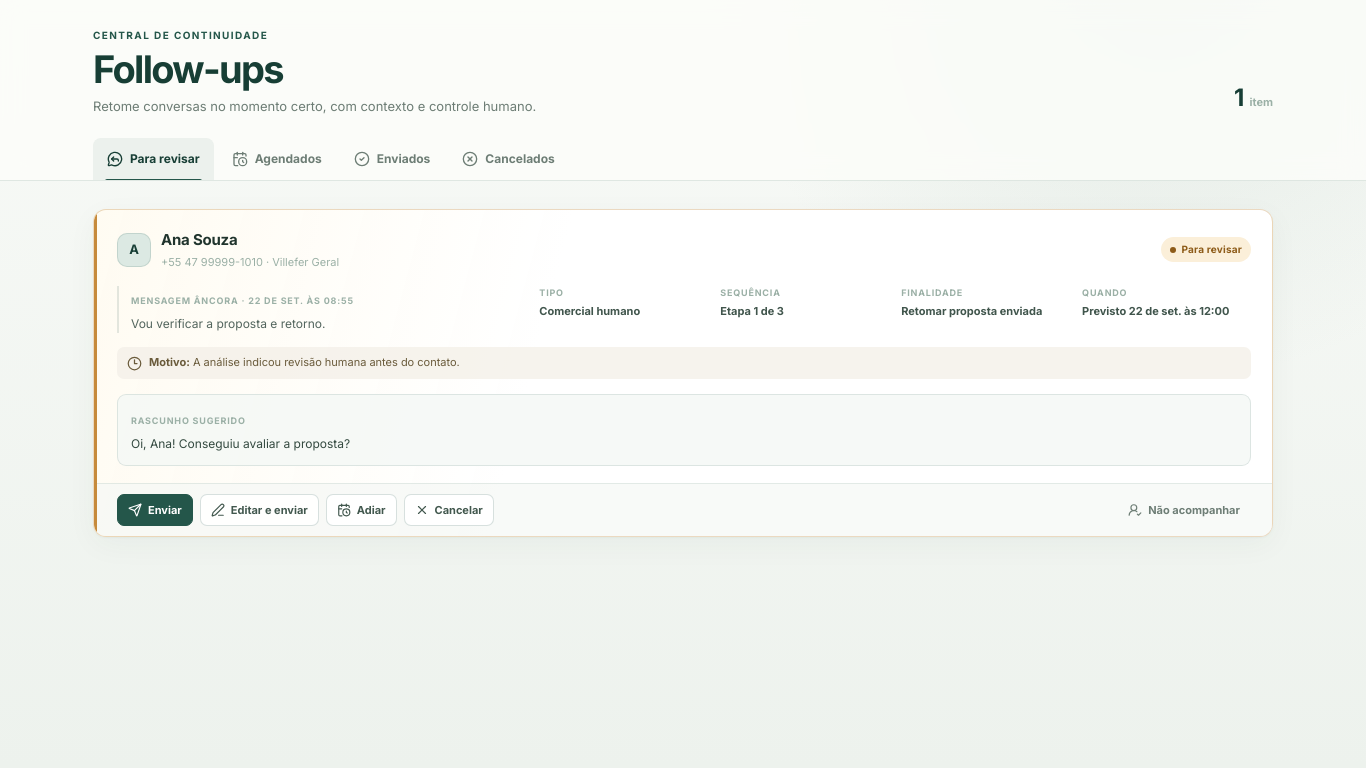
it: FollowupsPage › starts on review and switches between queue filters
Click the button "Agendados". click: (277, 159)
box: x1=218 y1=138 x2=336 y2=180
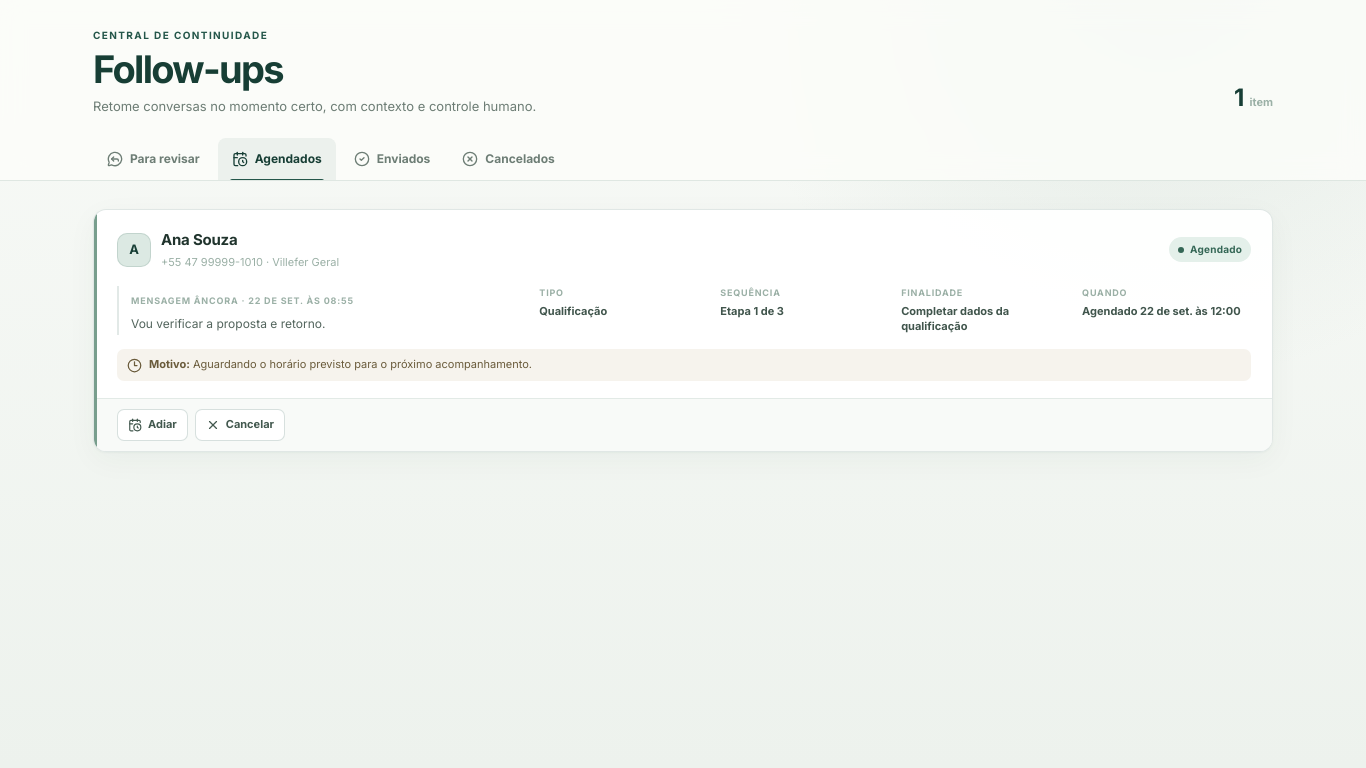
Expected: the text "Motivo:" is shown, x1=149 y1=357 x2=190 y2=371
Result: the text "Completar dados da qualificação" is shown at x1=901 y1=304 x2=1009 y2=333
Result: the text "Aguardando o horário previsto" is shown at x1=193 y1=357 x2=532 y2=371
